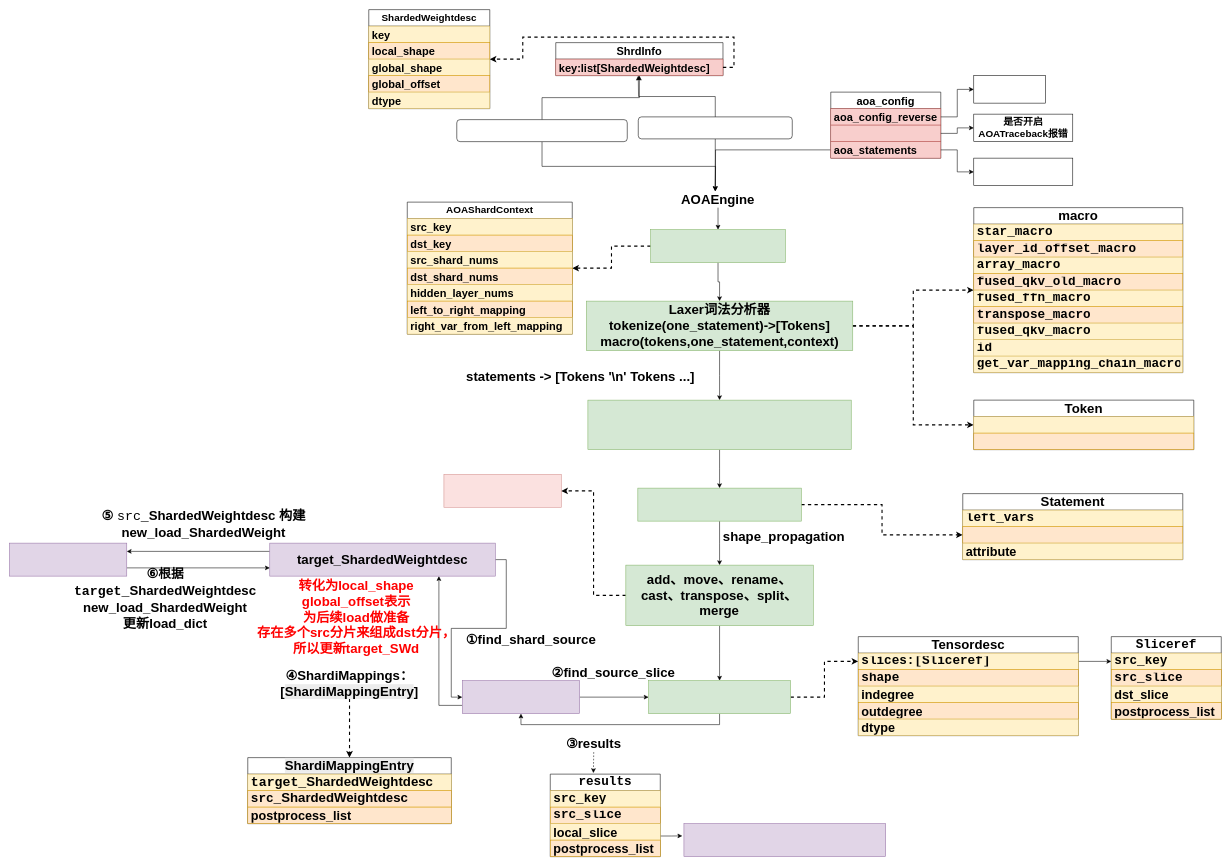
The diagram is 1231 pixels wide and 866 high, and some of its shapes have lost their labels. Here are the shapes that lost their labels. From the top down, the centre of each, then its label:
At [1009,89]: "是否自动配置逆向 statement".
At [541,130]: "source_state_sharded_infor".
At [715,127]: "dst_state_sharded_infor".
At [885,133]: "enable_trace_back".
At [1023,172]: "简洁箭头原语表示模型结构转换".
At [717,246]: "构建AOA ShardContext".
At [719,425]: "Parse语法分析器 [Tokens]->[left_vars,right_vars,attr]".
At [1083,424]: "type".
At [1083,441]: "value(str is partial_statement)".
At [502,490]: "global_view".
At [719,504]: "[Statements]".
At [1072,534]: "right_vars".
At [68,559]: "load_state_dict".
At [521,697]: "target_key".
At [719,697]: "output_vars: [dst_key:Tensordesc]".
At [784,840]: "global_dst_slice&target_slice overlap".
